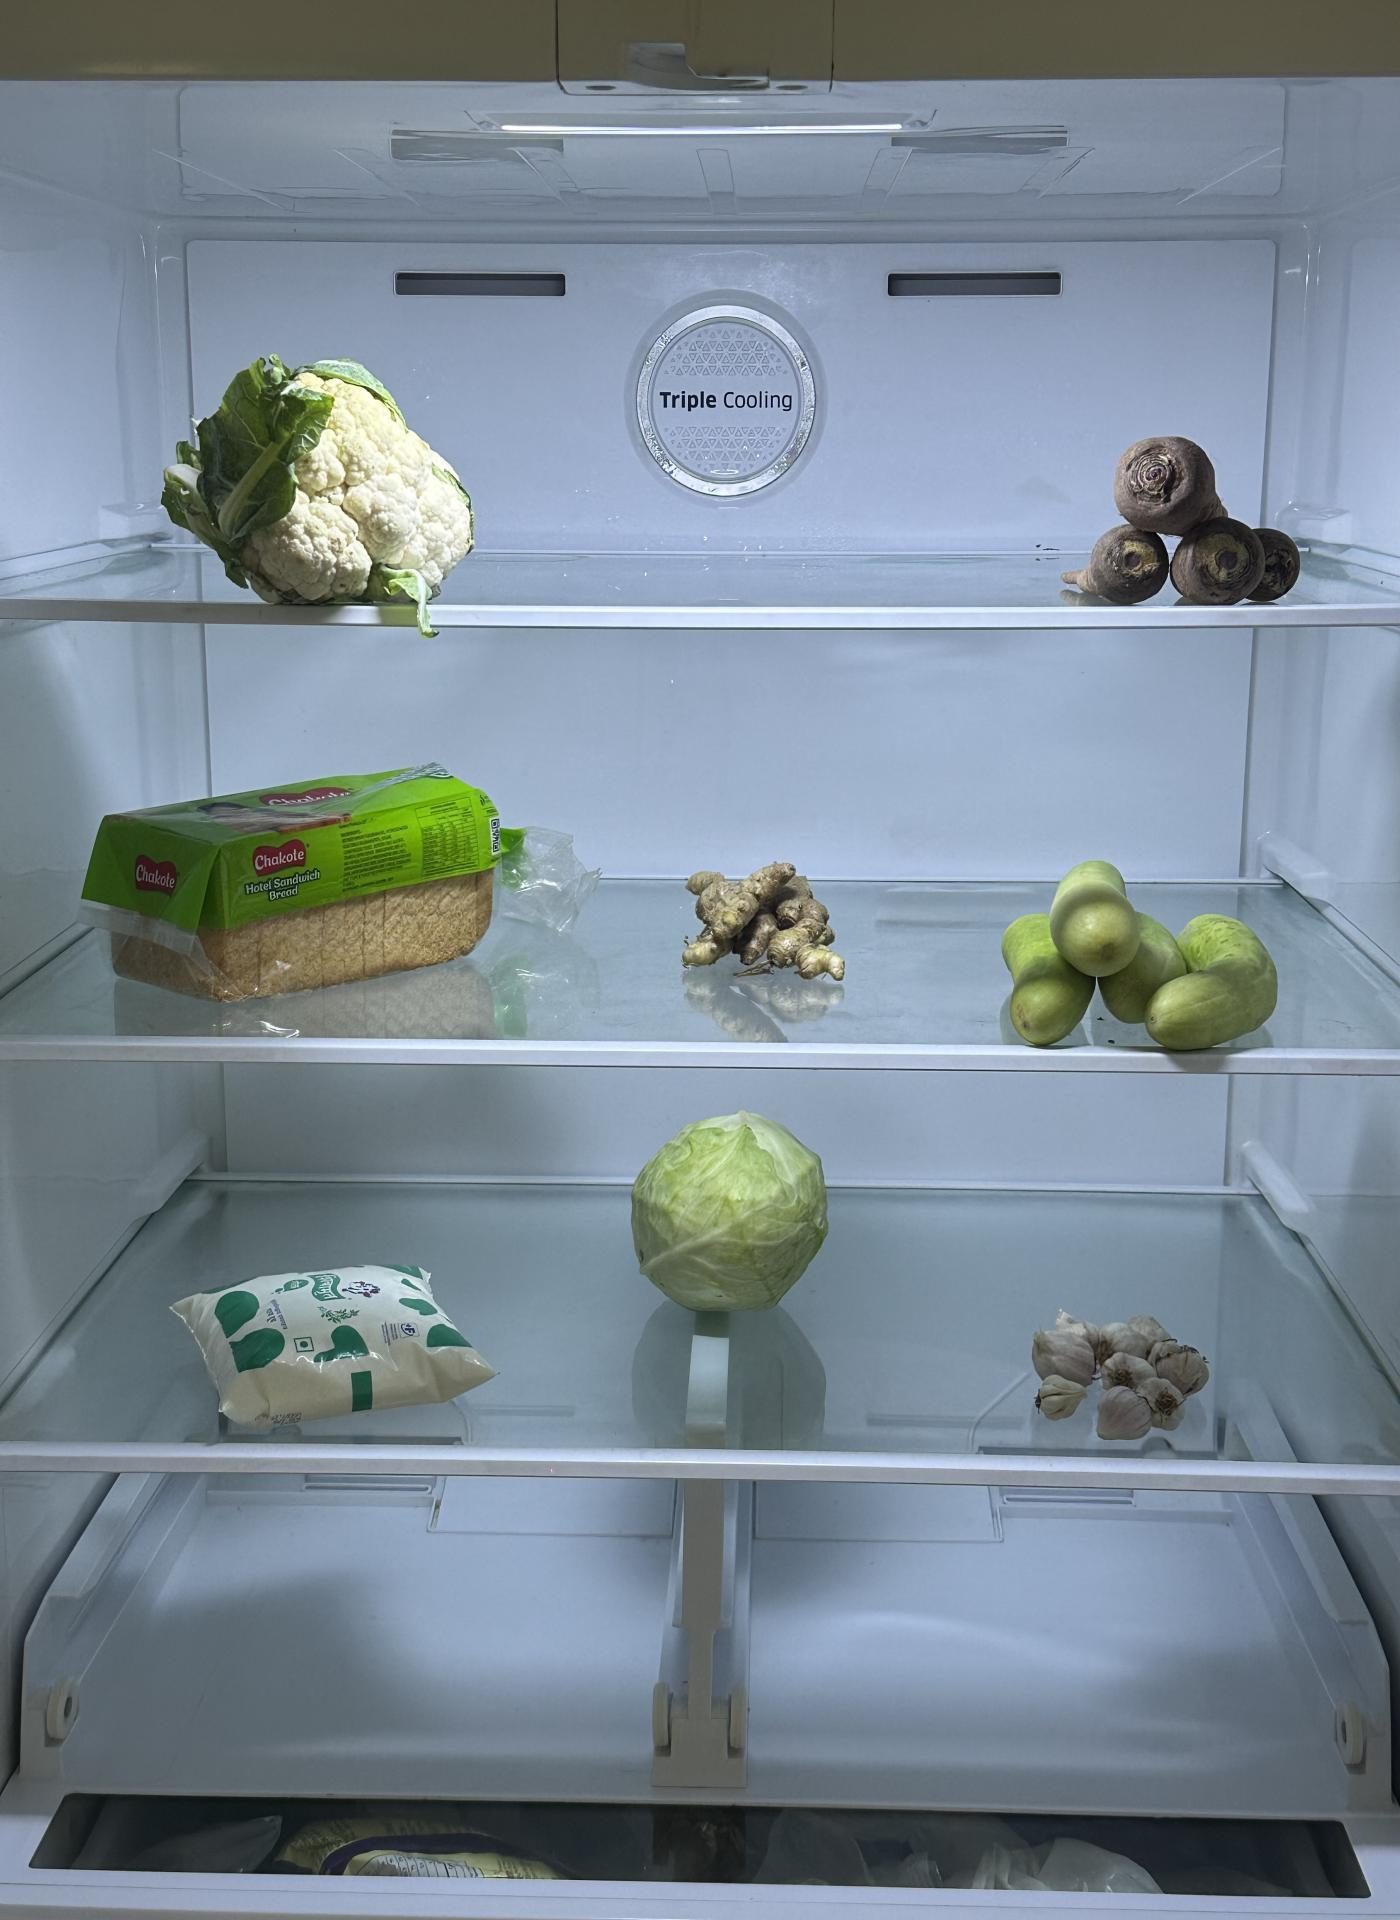bread: (75, 757, 543, 1008)
cabbage: (614, 1103, 850, 1328)
carrots: (1066, 434, 1309, 616)
cauliflower: (177, 349, 465, 611)
cucumber: (978, 863, 1296, 1054)
garlic: (1024, 1301, 1236, 1488)
ginger: (677, 848, 850, 1000)
milk: (173, 1258, 495, 1436)
